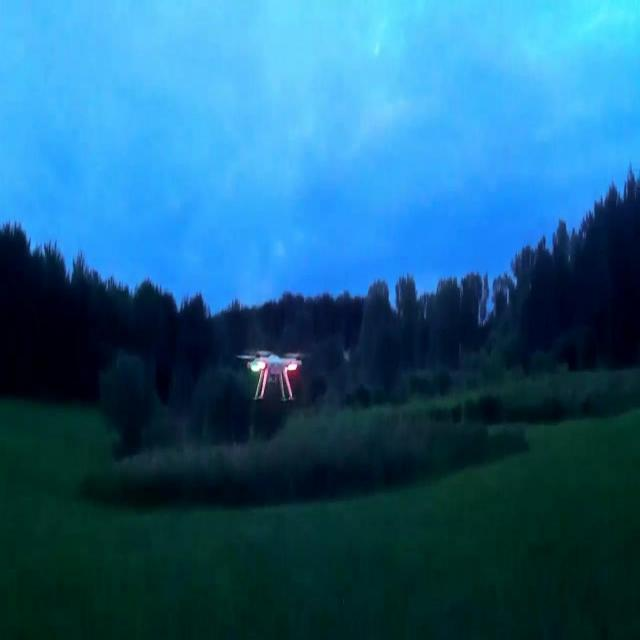UAV: (236, 351, 302, 402)
